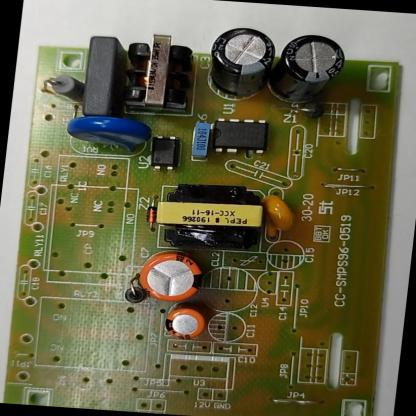Cap1: (132, 247, 208, 304)
Cap2: (153, 303, 209, 342)
Cap3: (196, 22, 278, 96)
Cap4: (275, 29, 353, 95)
MOSFET: (201, 110, 276, 160)
Mov: (60, 112, 152, 154)
Resistor: (39, 66, 80, 100)
Transformer: (148, 180, 268, 252), (117, 26, 198, 118)
